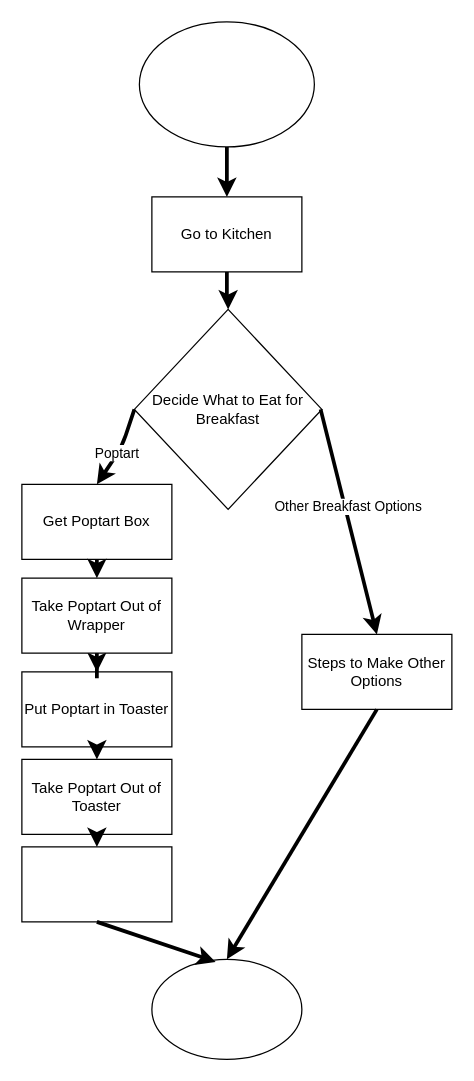
Some shapes in this 474 by 1081 pixel diagram are drawn without their labels. Here are the shapes that lost their labels. From the top down, the box of each, then its label:
(138, 21, 314, 147): Start
(21, 846, 172, 922): Eat Poptart
(151, 958, 302, 1059): Finish/ Go to Class
